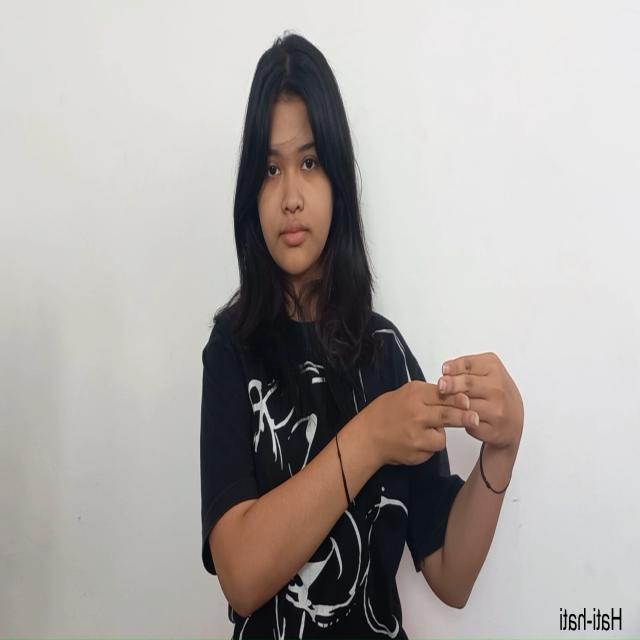Hati-hati -BISINDO-: (369, 347, 528, 471)
